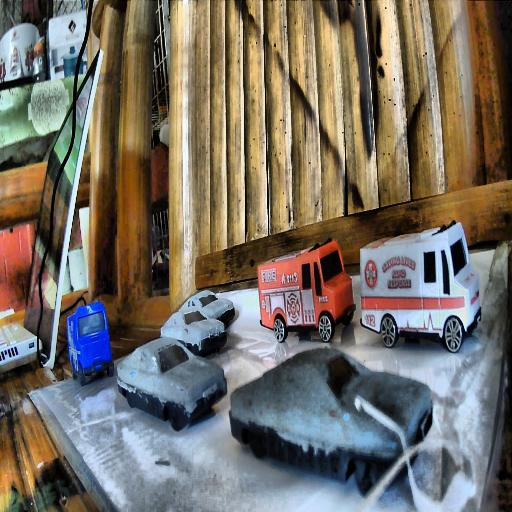ambulance: (359, 218, 481, 353)
fire_truck: (256, 237, 354, 343)
normal_car: (233, 344, 427, 498), (116, 335, 228, 432), (164, 311, 226, 359), (196, 296, 234, 326)
police car: (66, 301, 114, 387)
